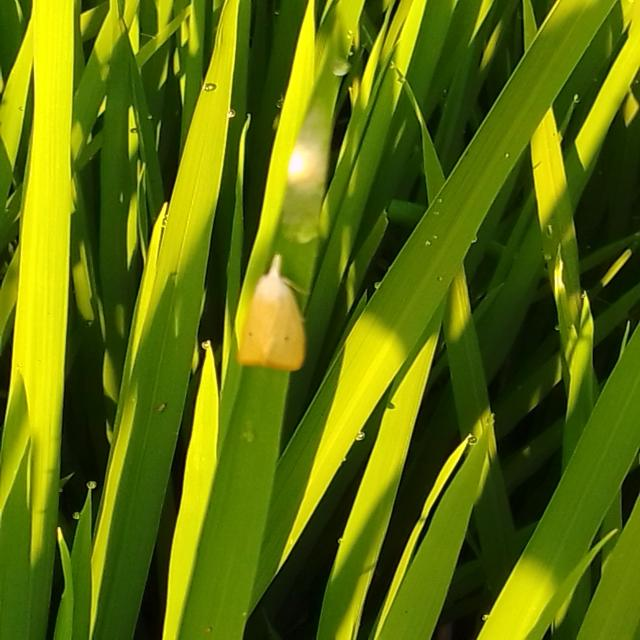Narrow brown: (221, 251, 332, 400)
